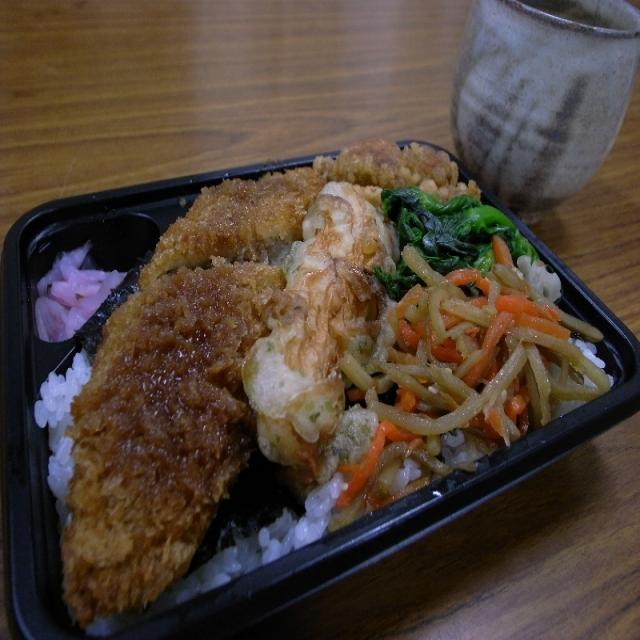炸货点心: (45, 122, 484, 640)
熟制海鲜: (45, 122, 484, 640)
